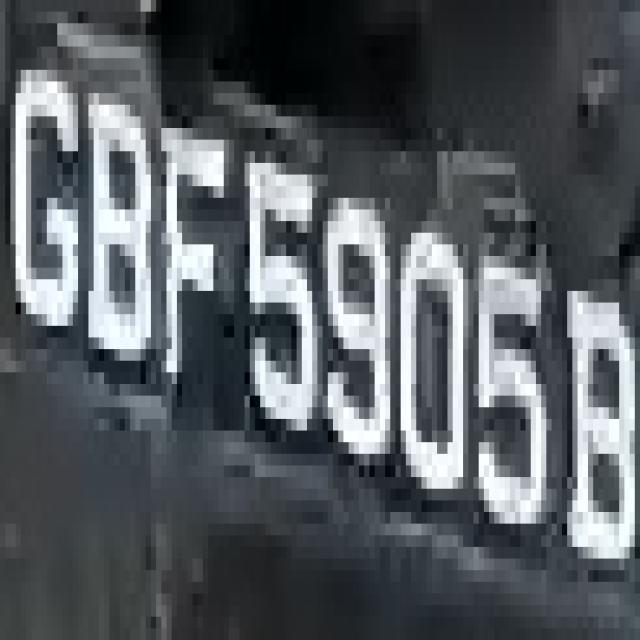0: (391, 174, 468, 500)
5: (239, 128, 328, 454), (468, 209, 546, 547)
9: (312, 175, 390, 477)
B: (556, 244, 630, 594), (73, 93, 151, 372)
F: (156, 70, 234, 407)
G: (11, 46, 84, 338)
